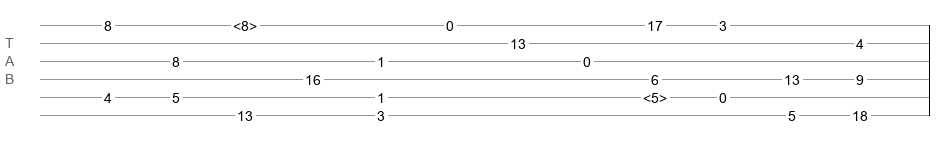0: (446, 18, 454, 28), (583, 54, 591, 64), (719, 90, 727, 100)
1: (377, 54, 385, 64), (377, 90, 385, 100)
13: (237, 108, 253, 118), (510, 36, 526, 46), (784, 72, 800, 82)
16: (305, 72, 321, 82)
17: (647, 18, 663, 28)
18: (852, 108, 868, 118)
3: (377, 108, 385, 118), (719, 18, 727, 28)
4: (104, 90, 112, 100), (856, 36, 864, 46)
5: (172, 90, 180, 100), (788, 108, 796, 118)
6: (651, 72, 659, 82)
8: (104, 18, 112, 28), (172, 54, 180, 64)
9: (856, 72, 864, 82)
harmonic: (233, 18, 257, 28), (643, 90, 667, 100)
